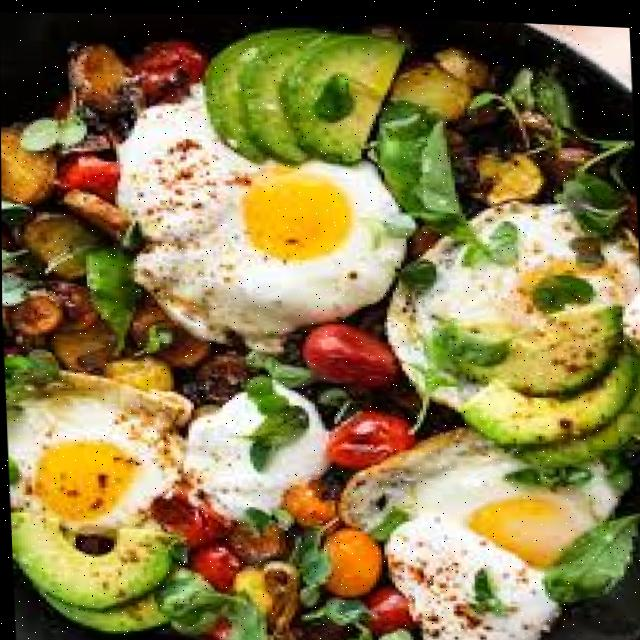Egg: (117, 84, 413, 337), (385, 199, 640, 451), (339, 424, 618, 640), (7, 369, 191, 529), (184, 376, 327, 511)
